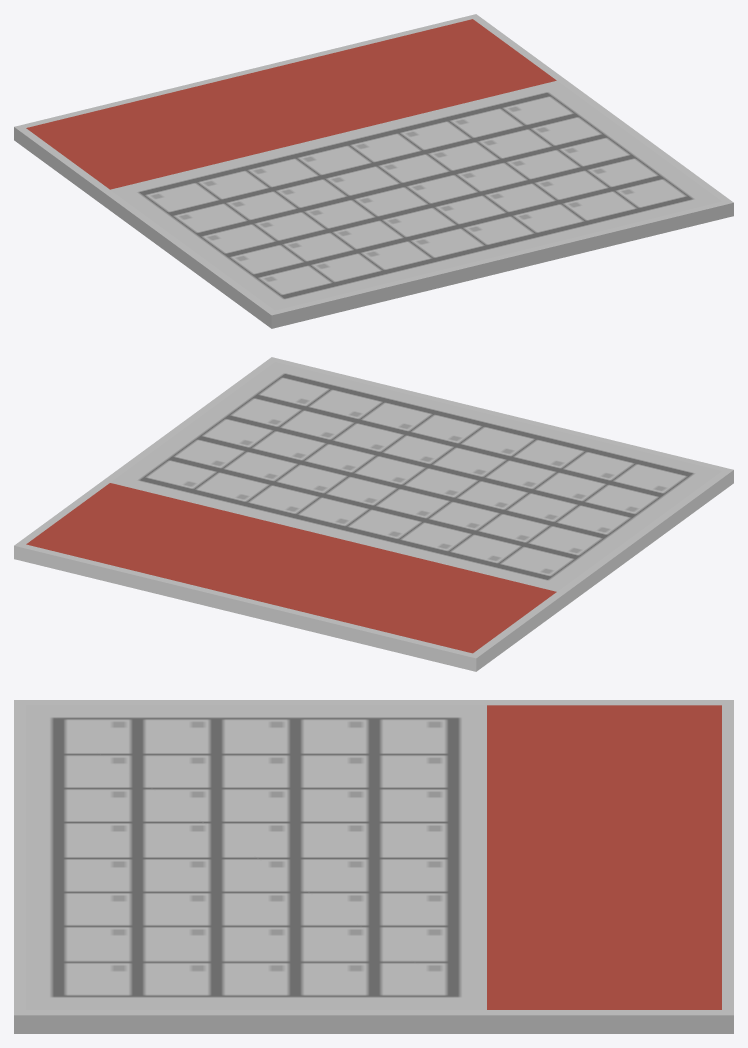
File: Calendar.glb
The picture shows the model from 3 angles, top to bottom: view 1: azimuth 30°, elevation 25°; view 2: azimuth 150°, elevation 25°; view 3: azimuth 270°, elevation 25°; orthographic projection. The views are drawn at different scales.
Parts seen in each view (by area): view 1: SO_Calendar; view 2: SO_Calendar; view 3: SO_Calendar.
Part boxes in pixels (left/top/right/bottom): SO_Calendar: left=14, top=14, right=733, bottom=328; SO_Calendar: left=14, top=357, right=733, bottom=671; SO_Calendar: left=14, top=700, right=733, bottom=1033.
Bounding box in the file's own units: 0.7603 × 0.0211 × 0.7342.
Materials: 1 (1 with a texture image).
